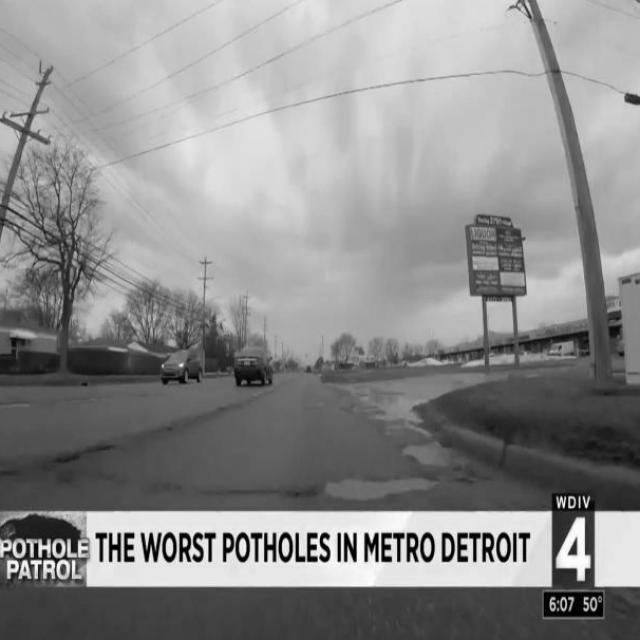pothole: (371, 398, 461, 481), (327, 470, 430, 506)
